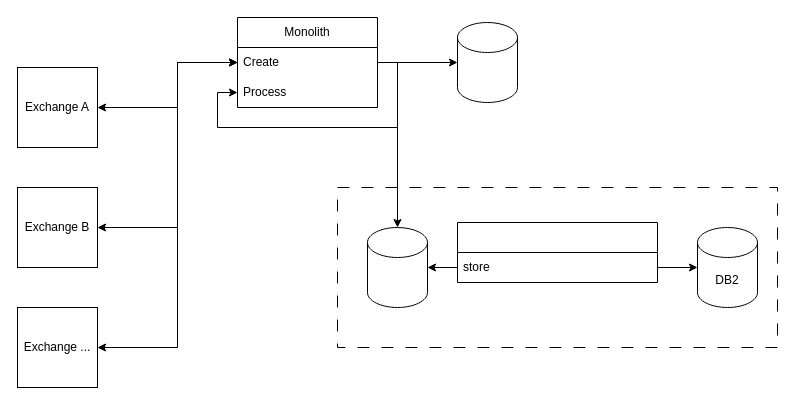
Image size: 795x405. Some labels were removed from this diagram. Each missing label, with the box of its shape:
DB1: (456, 22, 518, 102)
Event Store: (366, 226, 428, 308)
ExchangeOrder Microservice: (456, 222, 658, 282)
